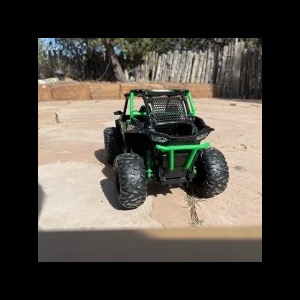polaris: (102, 88, 233, 212)
